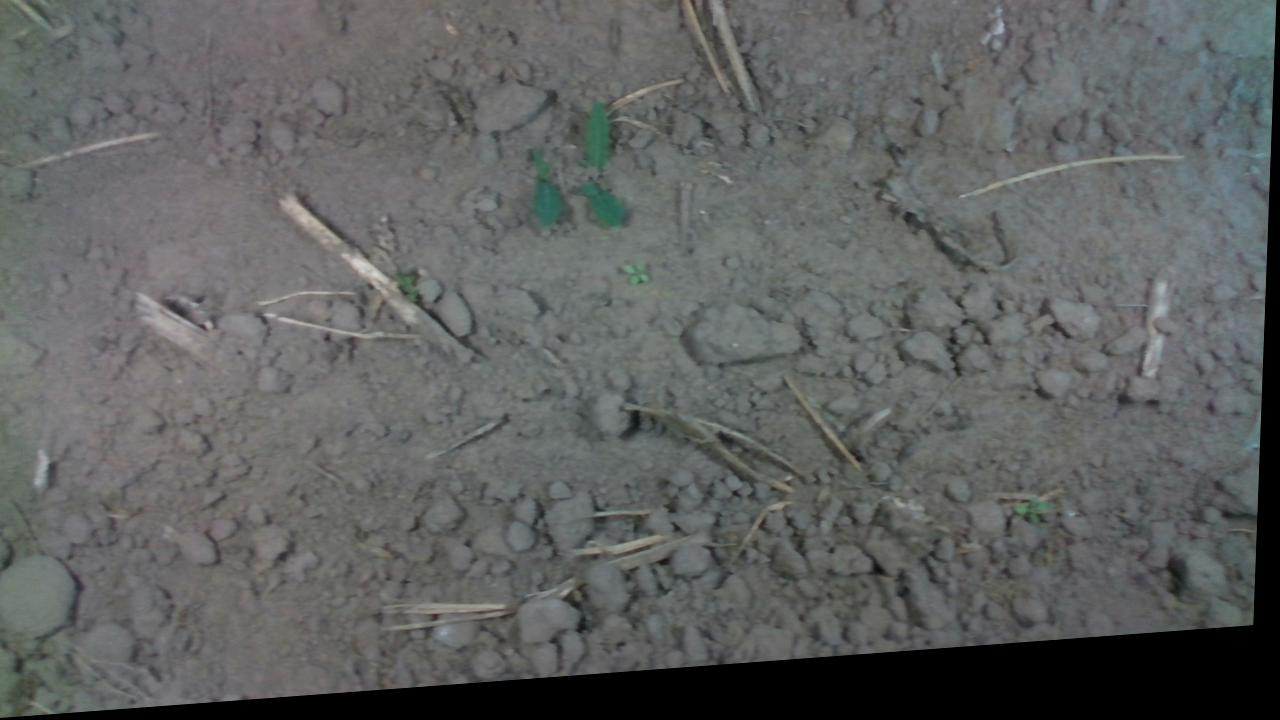weed: (575, 107, 631, 241), (528, 150, 568, 238), (619, 265, 652, 297)
